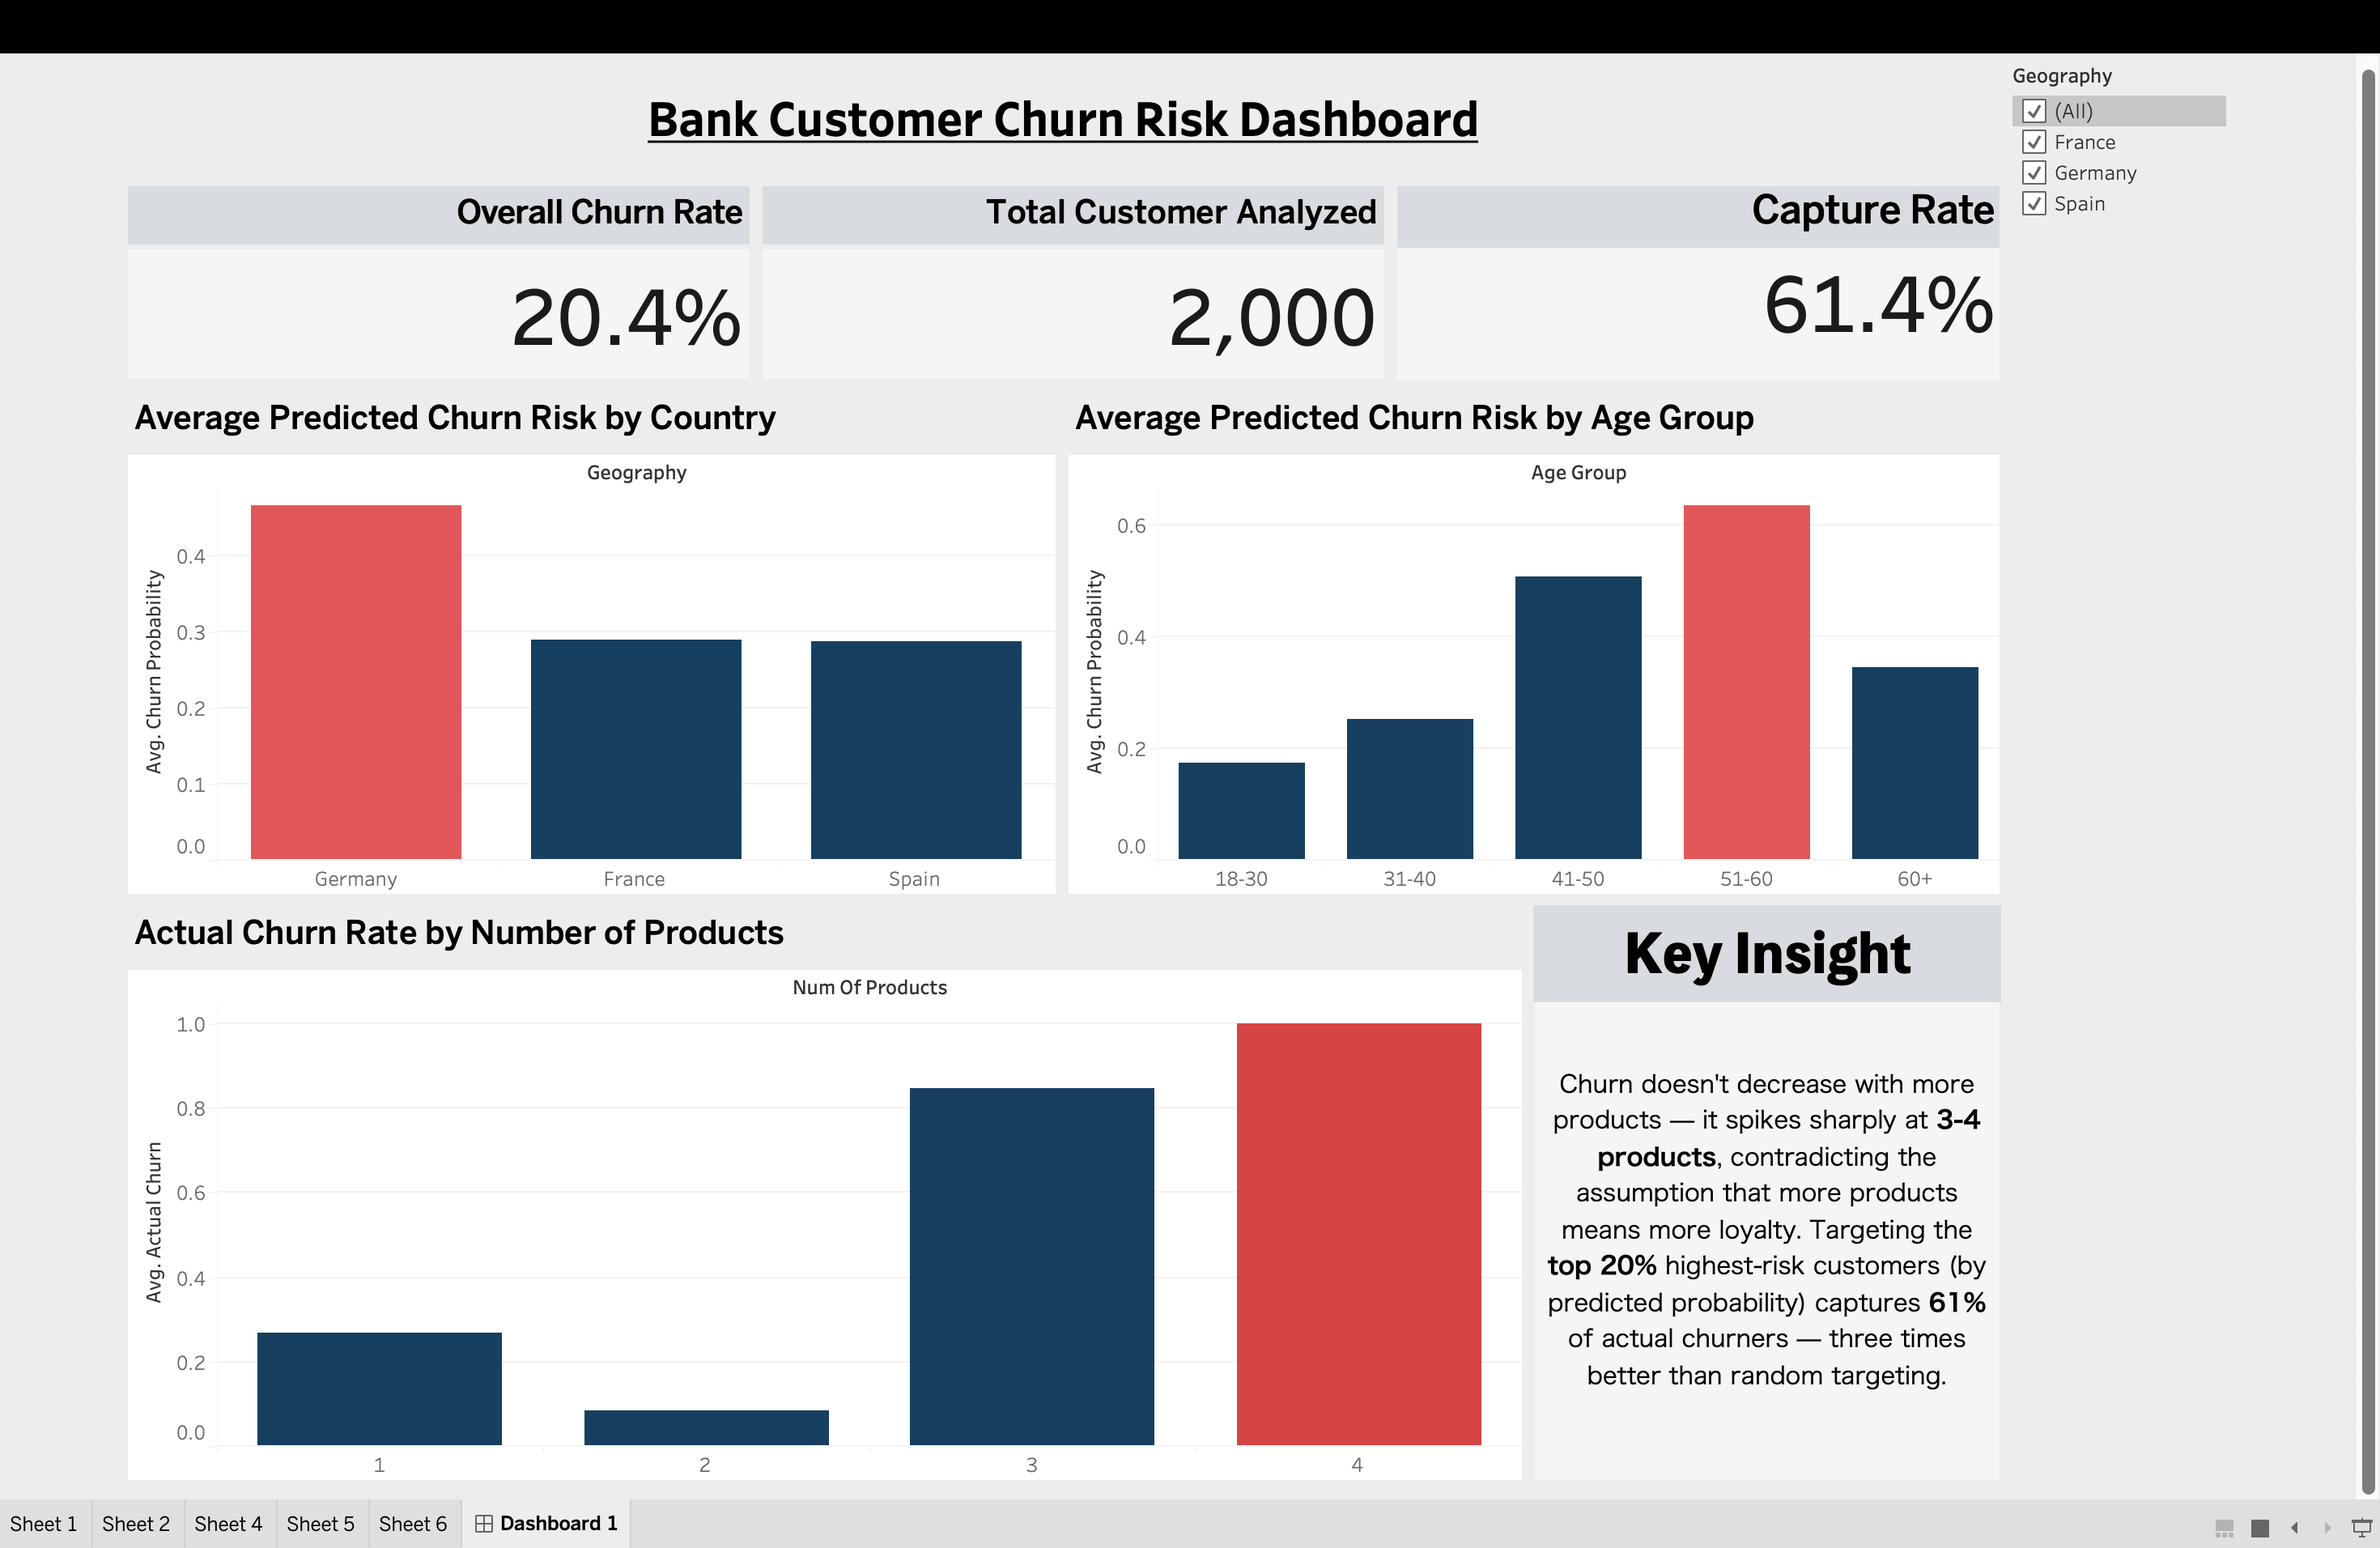

The dashboard page shown, as its layout file describes it:
{"tool":"tableau","page":{"name":"Dashboard 1","canvas":[1220,1000],"ordinal":0},"visuals":[{"type":"title","box":[8,8,1044,43]},{"type":"filter","title":"Sheet 4","param":"[federated.1139ht004jdpk213t16cr1l7swcp].[none:Geography:nk]","box":[1052,8,160,108]},{"type":"worksheet","title":"Sheet 1","mark":"Automatic","box":[8,51,378.2,182]},{"type":"worksheet","title":"Sheet 2","mark":"Automatic","box":[386.3,51,336.2,182]},{"type":"text","box":[722.5,51,329.5,182]},{"type":"worksheet","title":"Sheet 4","mark":"Automatic","rows":["churn_probability"],"cols":["Geography"],"box":[8,233,522,342.7]},{"type":"worksheet","title":"Sheet 5","mark":"Automatic","rows":["churn_probability"],"cols":["AgeGroup"],"box":[530,233,522,342.7]},{"type":"worksheet","title":"Sheet 6","mark":"Bar","rows":["actual_churn"],"cols":["NumOfProducts"],"box":[8,575.7,792,416.3]},{"type":"text","box":[800,575.7,252,416.3]}]}

Visuals, with their boxes on the page's 1220x1000 design canvas (x1, y1, x2, y2). These are canvas units, not pixel positions in the 2380x1548 screenshot, which may show the page scaled, cropped or inside an application window:
title: 8:8:1052:51
"Sheet 4" filter: 1052:8:1212:116
"Sheet 1" worksheet: 8:51:386:233
"Sheet 2" worksheet: 386:51:722:233
text: 722:51:1052:233
"Sheet 4" worksheet: 8:233:530:576
"Sheet 5" worksheet: 530:233:1052:576
"Sheet 6" worksheet (Bar marks): 8:576:800:992
text: 800:576:1052:992
